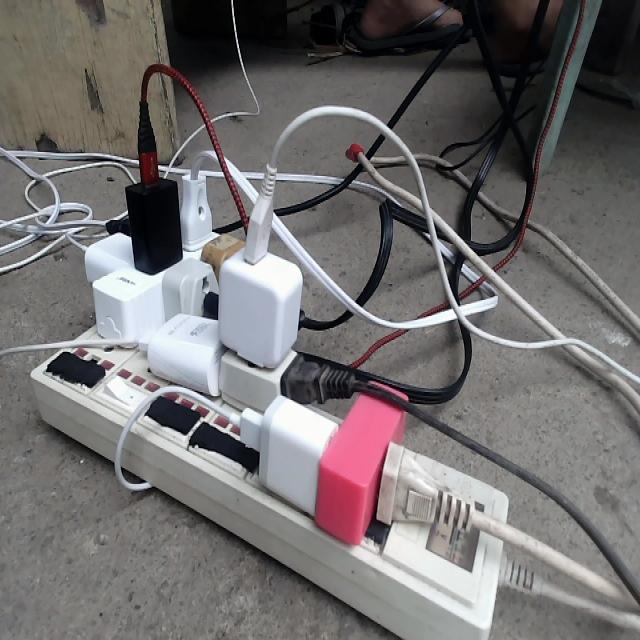-: (31, 108, 509, 639)
